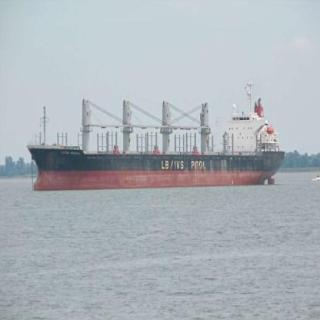Bulk Carrier: (28, 84, 286, 188)
